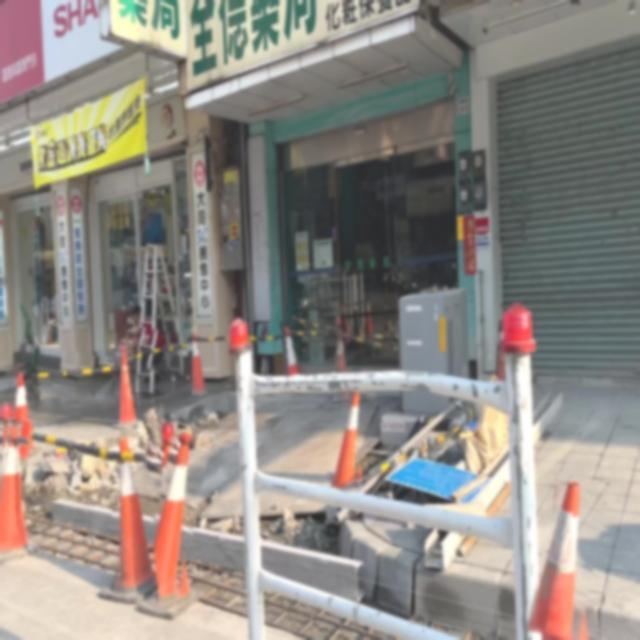traffic cone: (498, 482, 608, 640), (135, 428, 199, 622), (522, 482, 596, 640), (97, 458, 158, 606), (0, 443, 31, 562), (330, 391, 364, 490), (115, 345, 139, 427), (12, 373, 34, 451), (188, 337, 207, 397), (283, 327, 304, 378), (335, 338, 350, 372)
